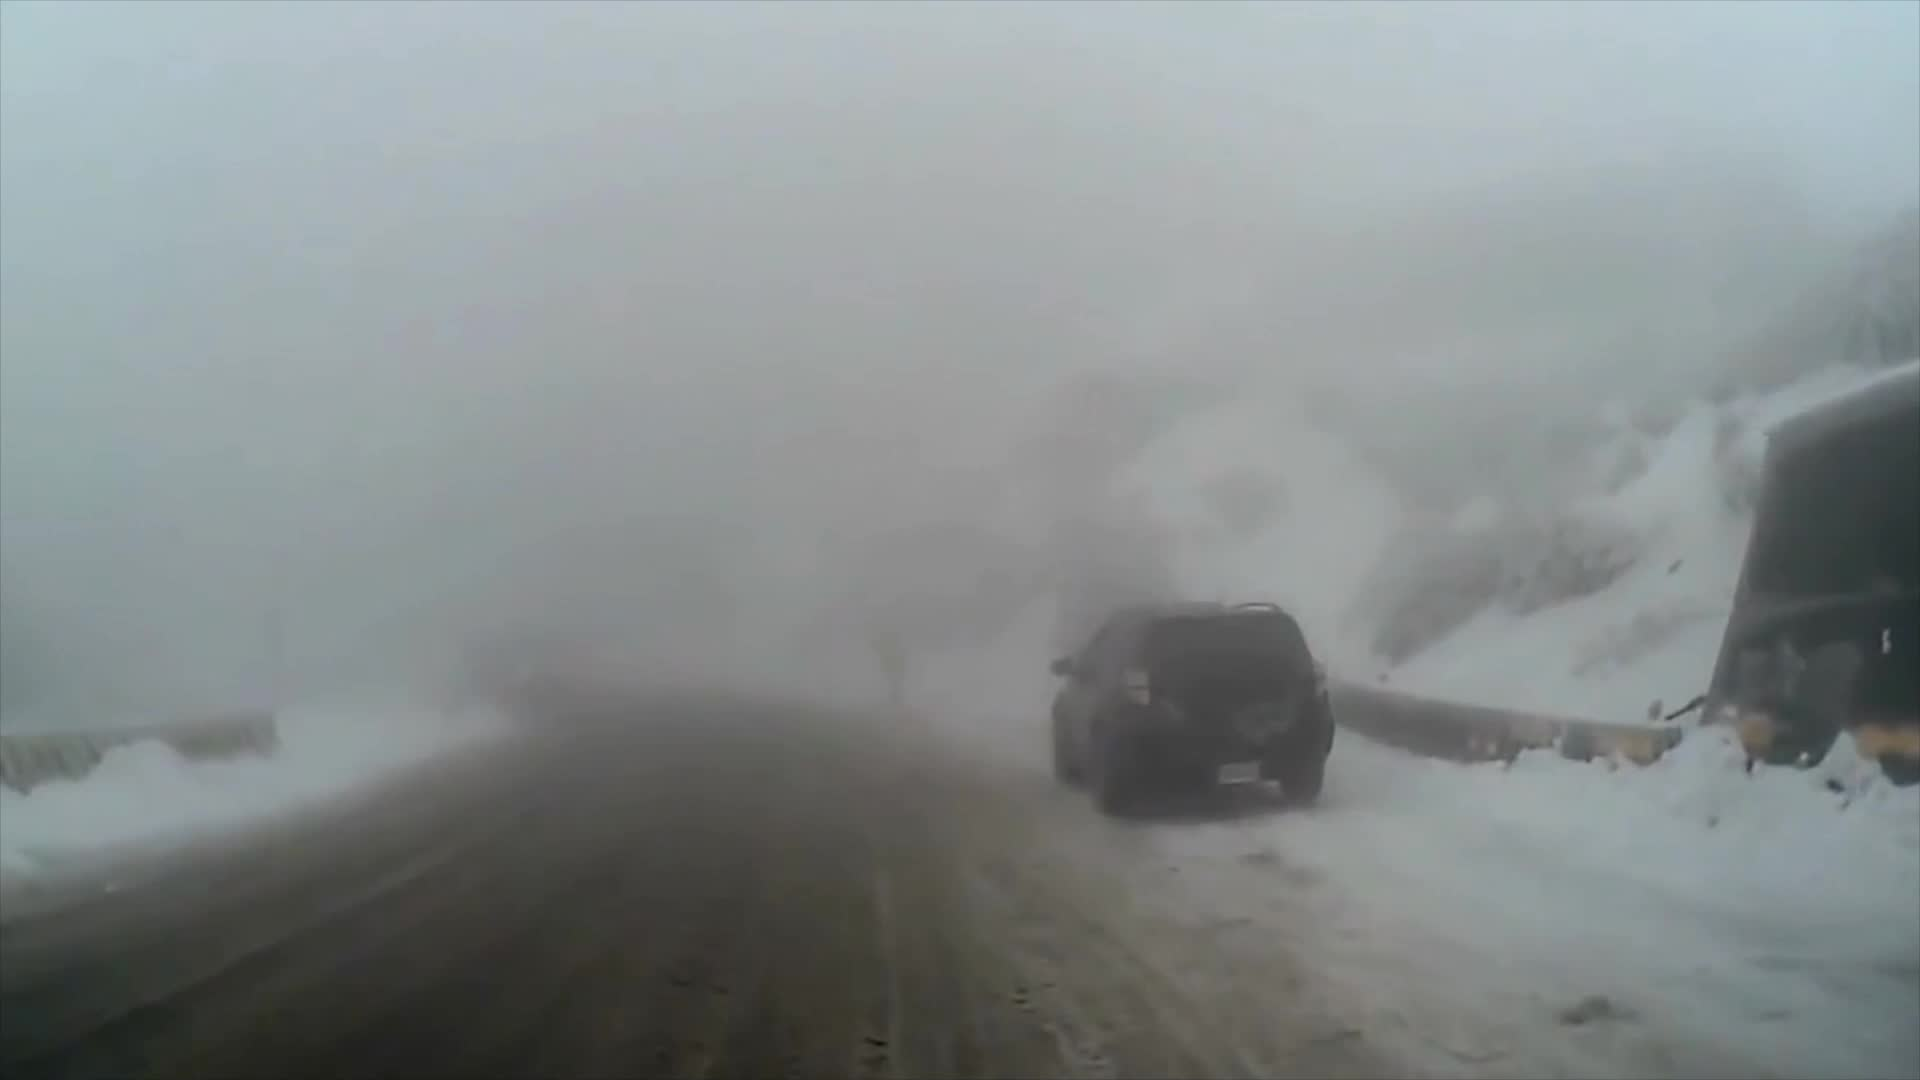vehicle: (1048, 597, 1340, 822)
